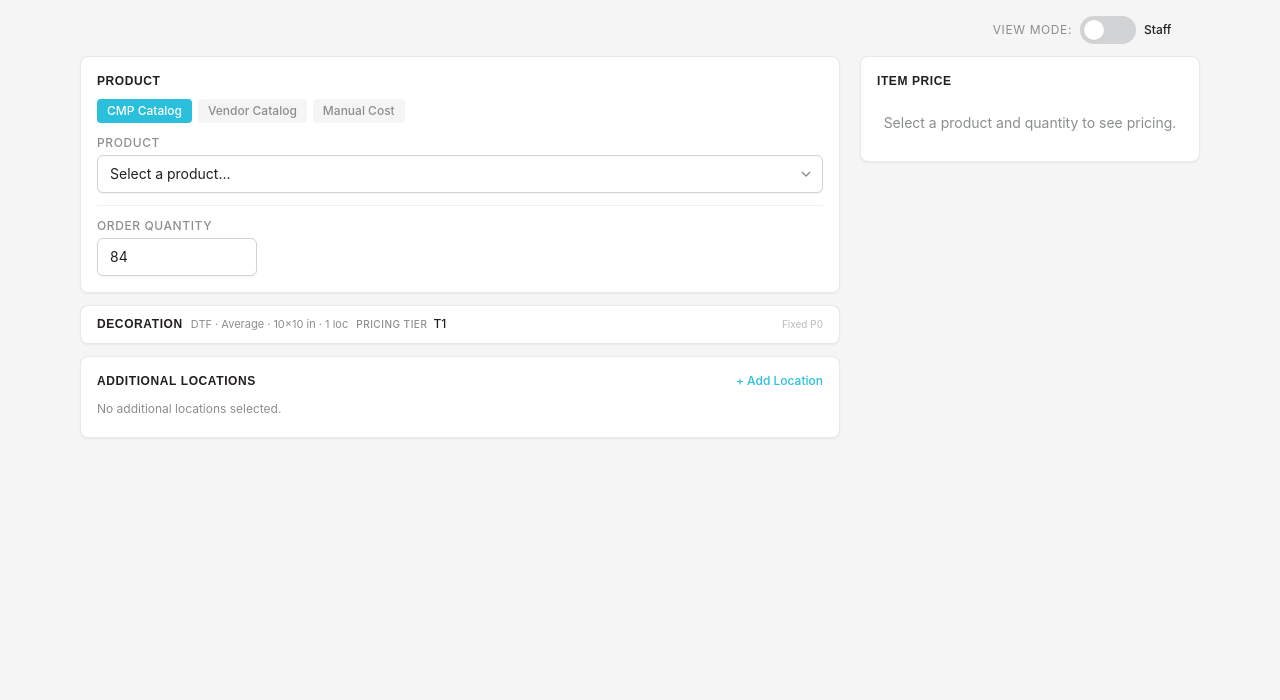
Test: additional-location quantity race condition › decimal quantity clears populated item and location quotes without firing invalid requests
Select "TEE-100 — Basic Tee" in the dropdown labelled "Product" at {"x": 460, "y": 174}, box [97,155,823,193]
Wait 360 ms
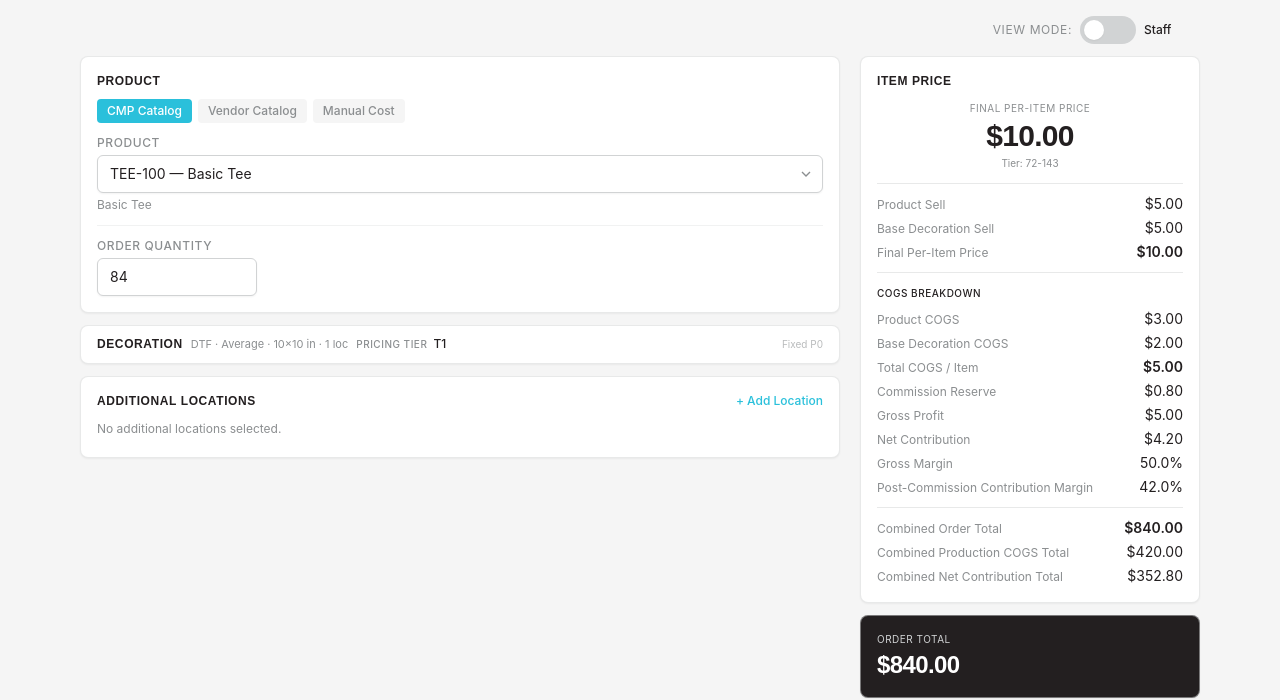
Click the button with test id "add-location-btn".
click(779, 400)  # box [736,392,823,408]
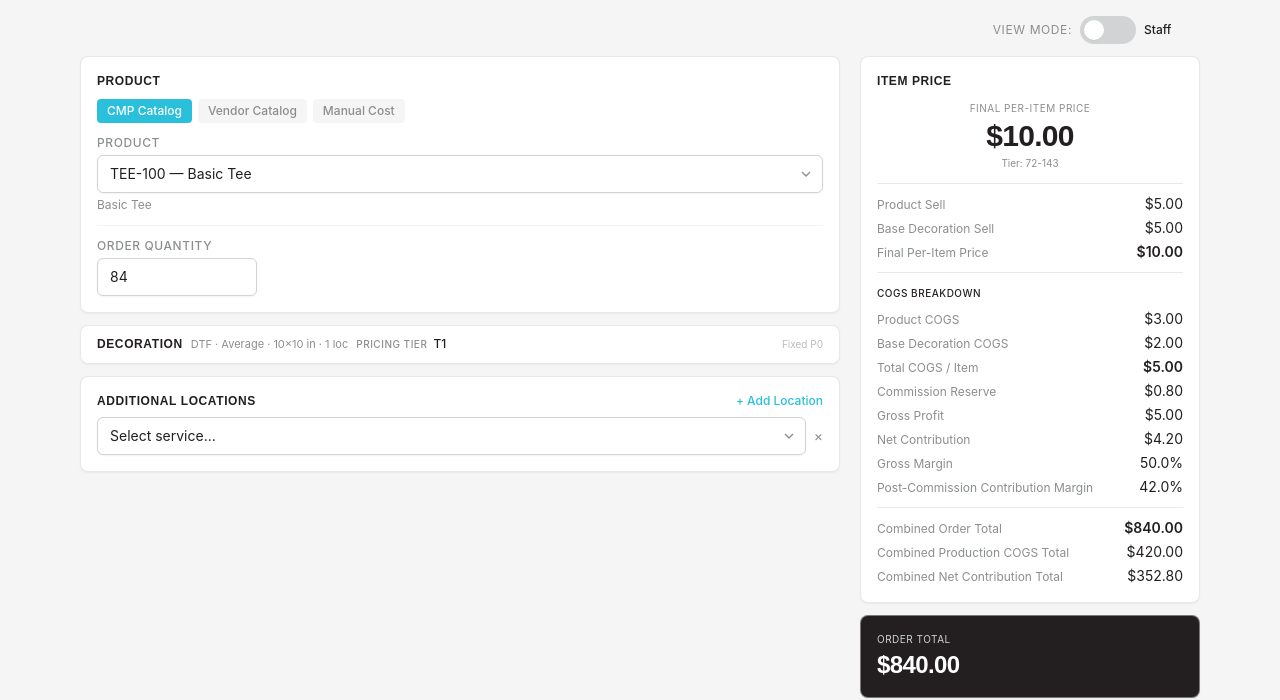
Select "Sleeve Print" in the dropdown named "Service for location loc-4" at {"x": 451, "y": 436}, box [97,416,806,454]
Wait 360 ms
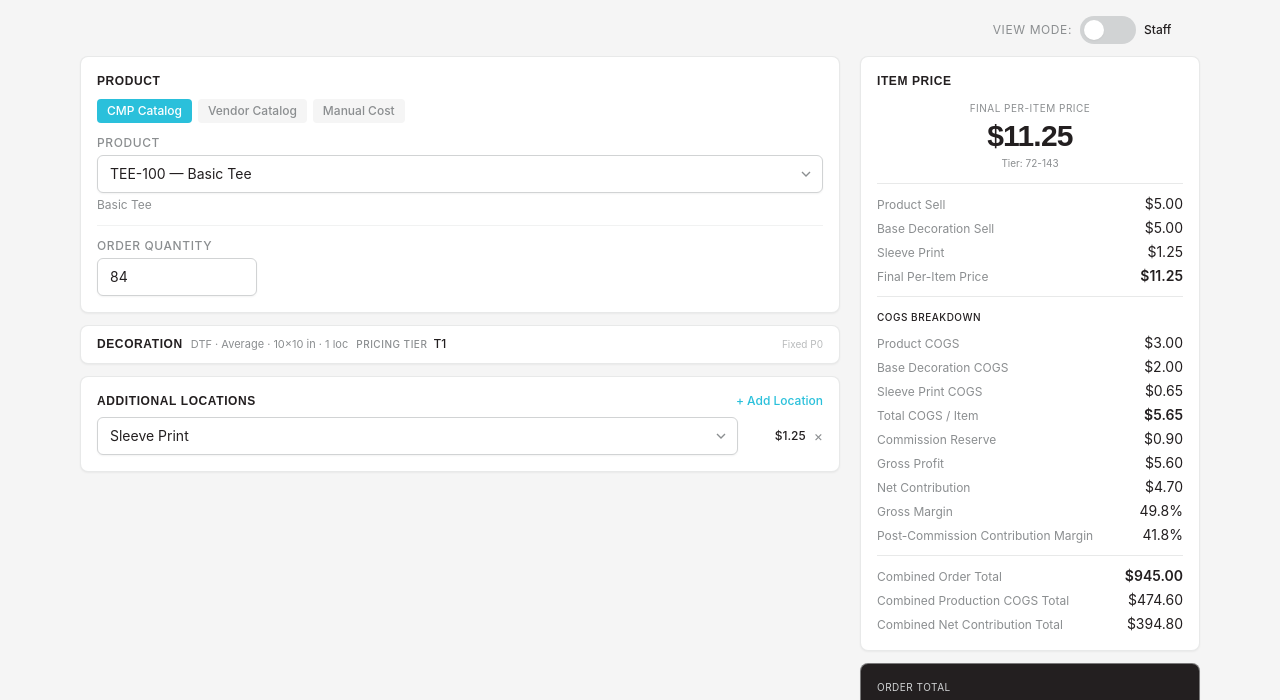
Now the text named "per-item price" reads "$11.25", box [987,119,1073,152]
Replace the text in the number field labelled "Order Quantity" with "12.5" at {"x": 177, "y": 277}, box [97,258,257,296]
Wait 400 ms
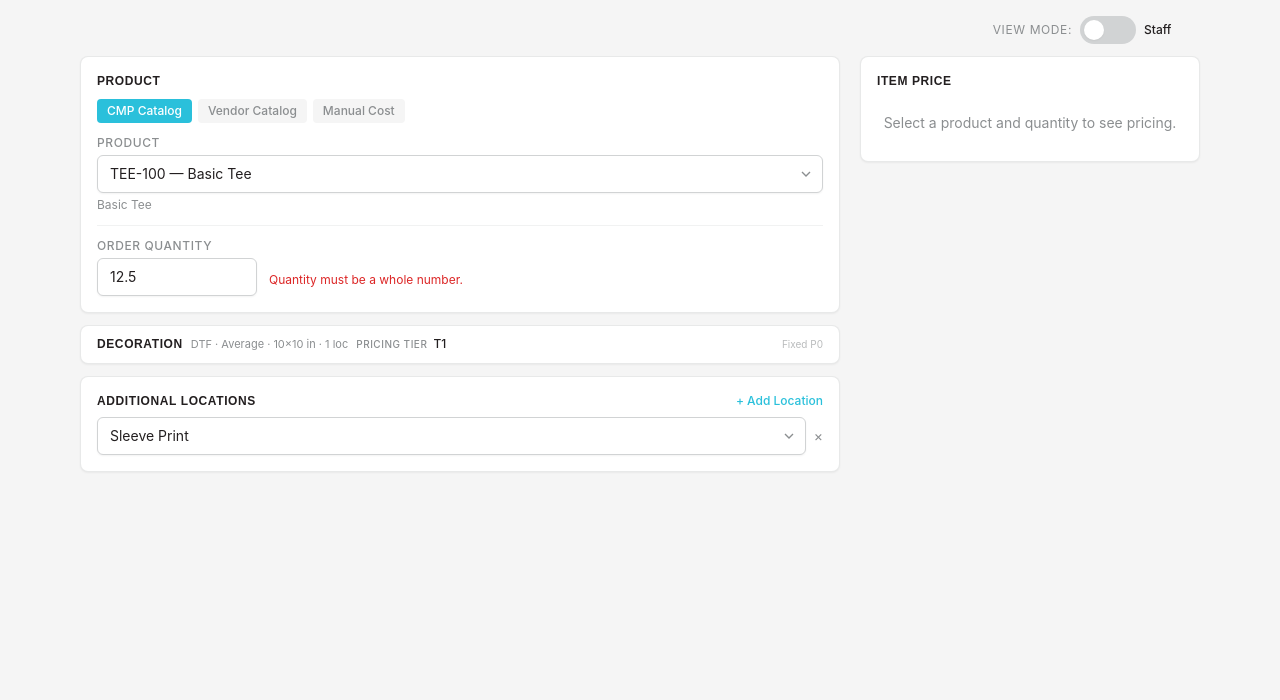
Now the text labelled "Per-Item Price" is gone
Now the element with test id "cogs-breakdown" is gone
Now the text "$" is gone
